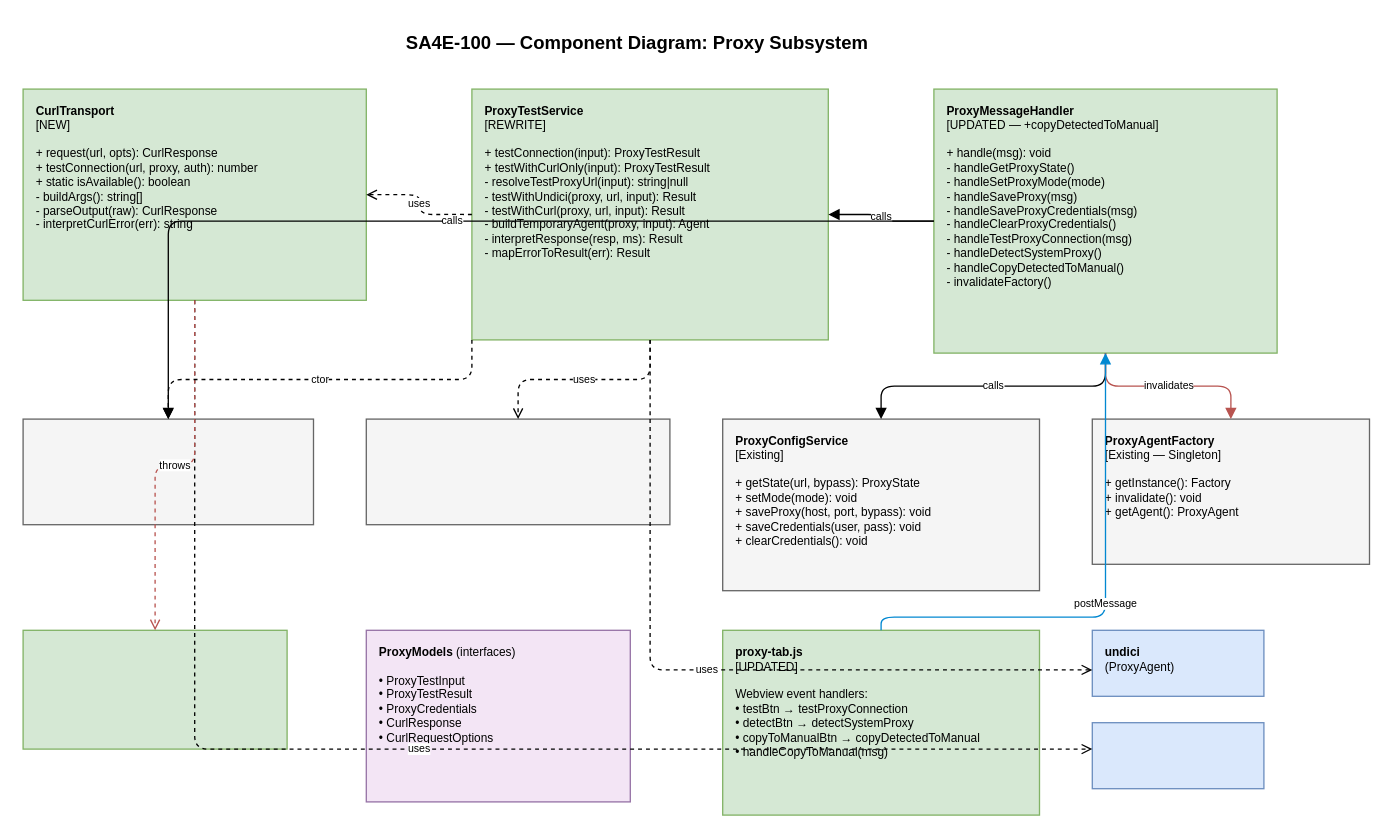
Some shapes in this 1393 by 838 pixel diagram are drawn without their labels. Each missing label, with the box of its shape:
child_process (execFile): (1091, 721, 1264, 789)
CurlTransportError extends Error + message: string + code?: string: (22, 629, 287, 749)
ProxyDetectionService [Existing] + detect(): { url, bypass }: (22, 418, 314, 525)
VscodeProxyResolverService [Existing] + resolveByUrl(url): { url }: (365, 418, 670, 525)
